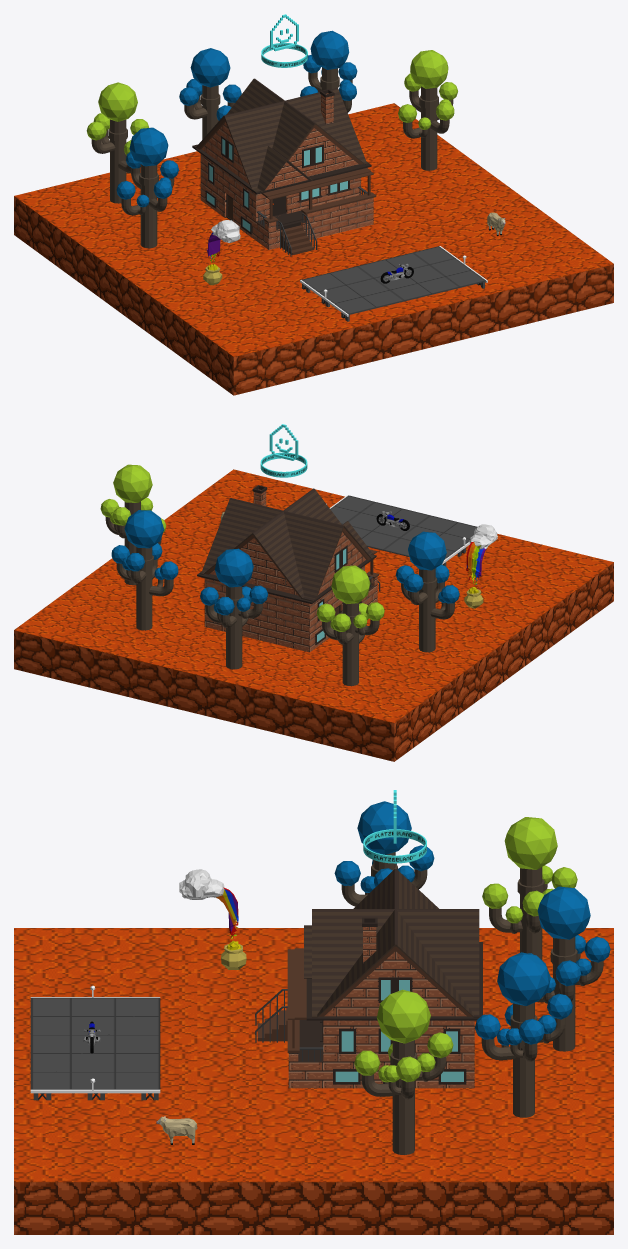
3 views of the same model, one above another, from view 1: azimuth 30°, elevation 25°; view 2: azimuth 150°, elevation 25°; view 3: azimuth 270°, elevation 25° (orthographic). The views are drawn at different scales.
Parts seen in each view (by area): view 1: Cube.001, Cube.469, OBJRANDOM_RAINBOW, TYPE_PREMIUM; view 2: Cube.001, Cube.469, OBJRANDOM_RAINBOW, TYPE_PREMIUM; view 3: Cube.001, Cube.469, OBJRANDOM_RAINBOW, TYPE_PREMIUM, ANIMAL_OVEJA.
Part boxes in pixels (x1=…): Cube.001: x1=14, y1=30, x2=613, y2=395; Cube.469: x1=192, y1=78, x2=376, y2=256; OBJRANDOM_RAINBOW: x1=203, y1=220, x2=240, y2=285; TYPE_PREMIUM: x1=261, y1=14, x2=307, y2=67; Cube.001: x1=14, y1=464, x2=613, y2=761; Cube.469: x1=197, y1=485, x2=380, y2=652; OBJRANDOM_RAINBOW: x1=464, y1=524, x2=497, y2=608; TYPE_PREMIUM: x1=260, y1=424, x2=307, y2=477; Cube.001: x1=14, y1=801, x2=613, y2=1234; Cube.469: x1=255, y1=869, x2=482, y2=1088; OBJRANDOM_RAINBOW: x1=179, y1=869, x2=246, y2=969; TYPE_PREMIUM: x1=363, y1=790, x2=426, y2=863; ANIMAL_OVEJA: x1=156, y1=1116, x2=197, y2=1144.
Size of the model in its own units: 4000 by 2562 by 4000.
Materials: 37 (6 with a texture image).
